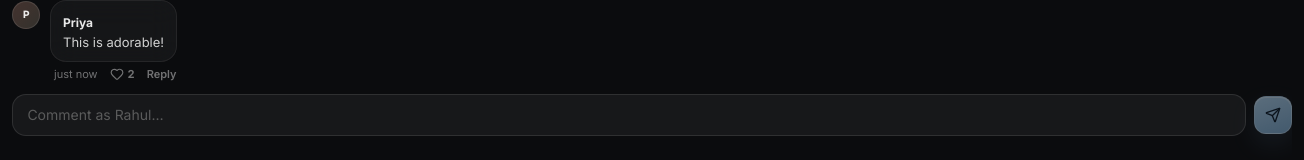
Test: CommentsPanel identity + likes › likes/unlikes a comment with live count and pressed state
Click the button named "Like comment" at (122, 74), box [110,66,135,82]
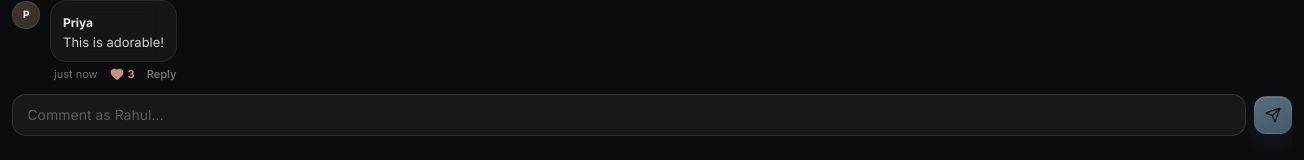
expect the button named "Unlike comment" reads "3": met, box [110,66,135,82]
